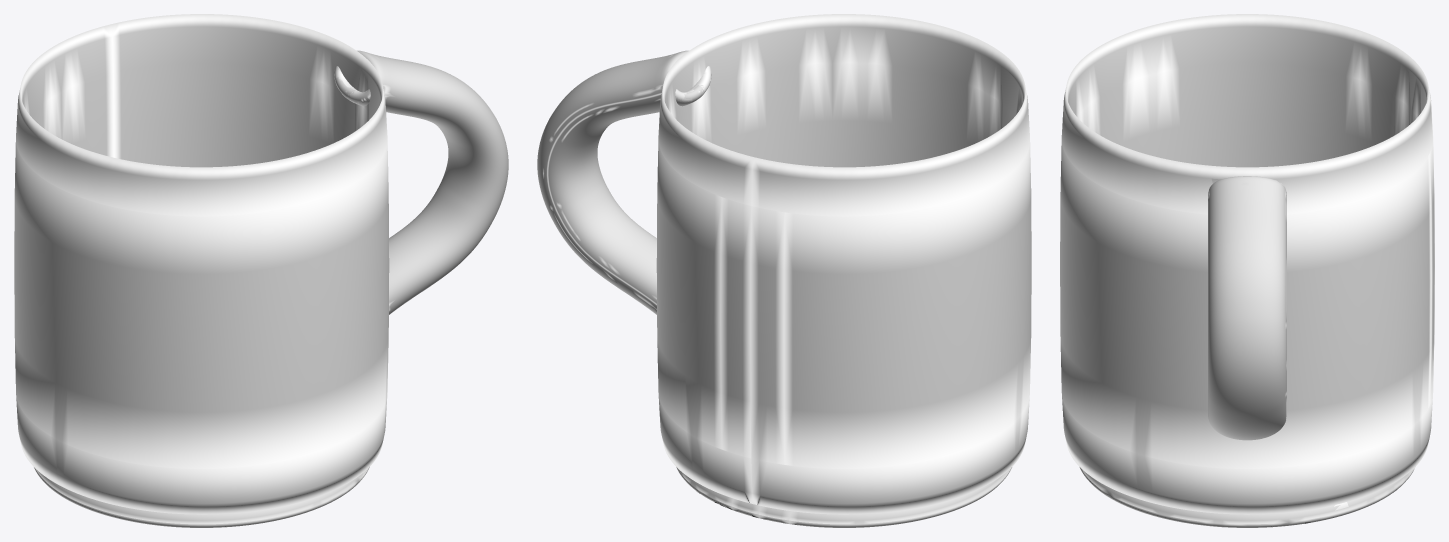
Rendered from mug.glb.
3 renders of one model, left to right at view 1: azimuth 30°, elevation 25°; view 2: azimuth 150°, elevation 25°; view 3: azimuth 270°, elevation 25°, orthographic.
Visible parts, largest first — view 1: Mug; view 2: Mug; view 3: Mug.
Part boxes in pixels (x1=…): Mug: x1=14, y1=14, x2=508, y2=527; Mug: x1=537, y1=14, x2=1031, y2=527; Mug: x1=1060, y1=14, x2=1434, y2=527.
Bounding box in the file's own units: 0.1211 × 0.092 × 0.0852.
Materials: 4 (1 with a texture image).
